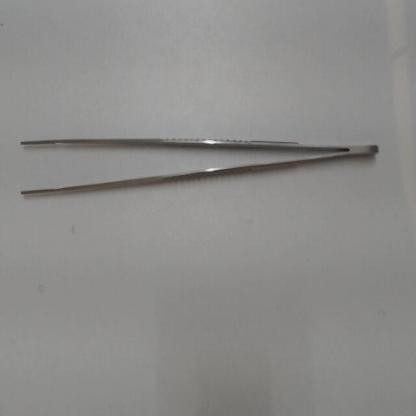DeBakey Dissector: (11, 121, 393, 213)
